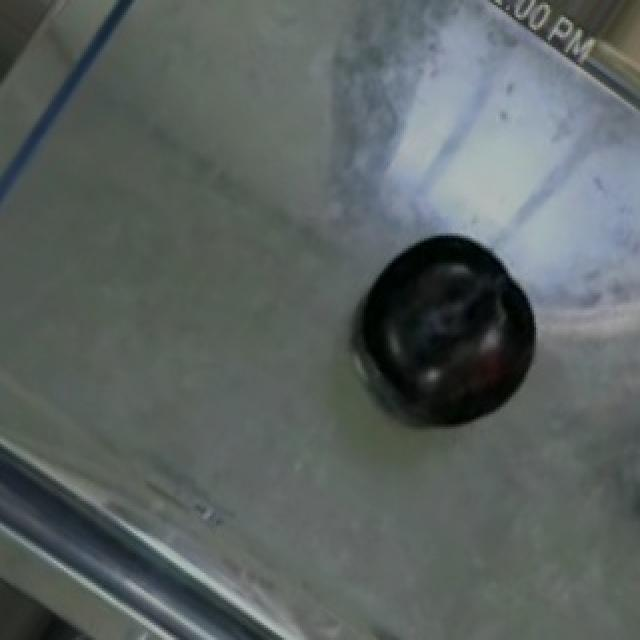Fruit: (344, 236, 550, 459)
